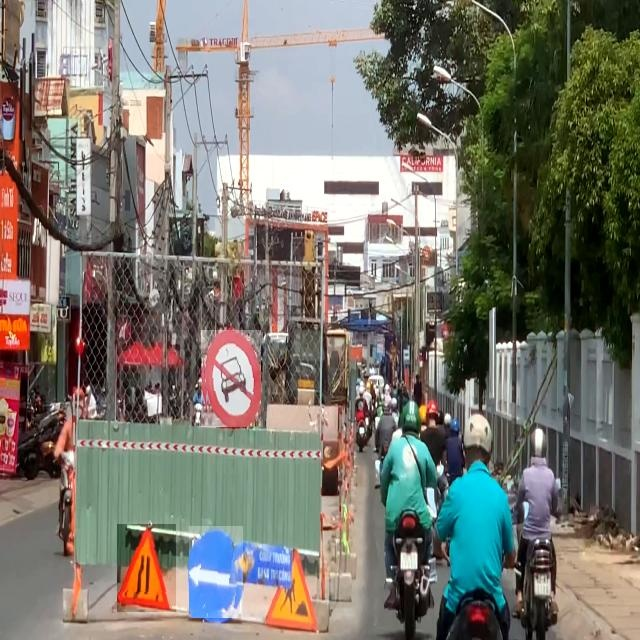bien_chi_dan: (201, 330, 261, 427), (117, 524, 176, 612), (189, 526, 243, 618)
